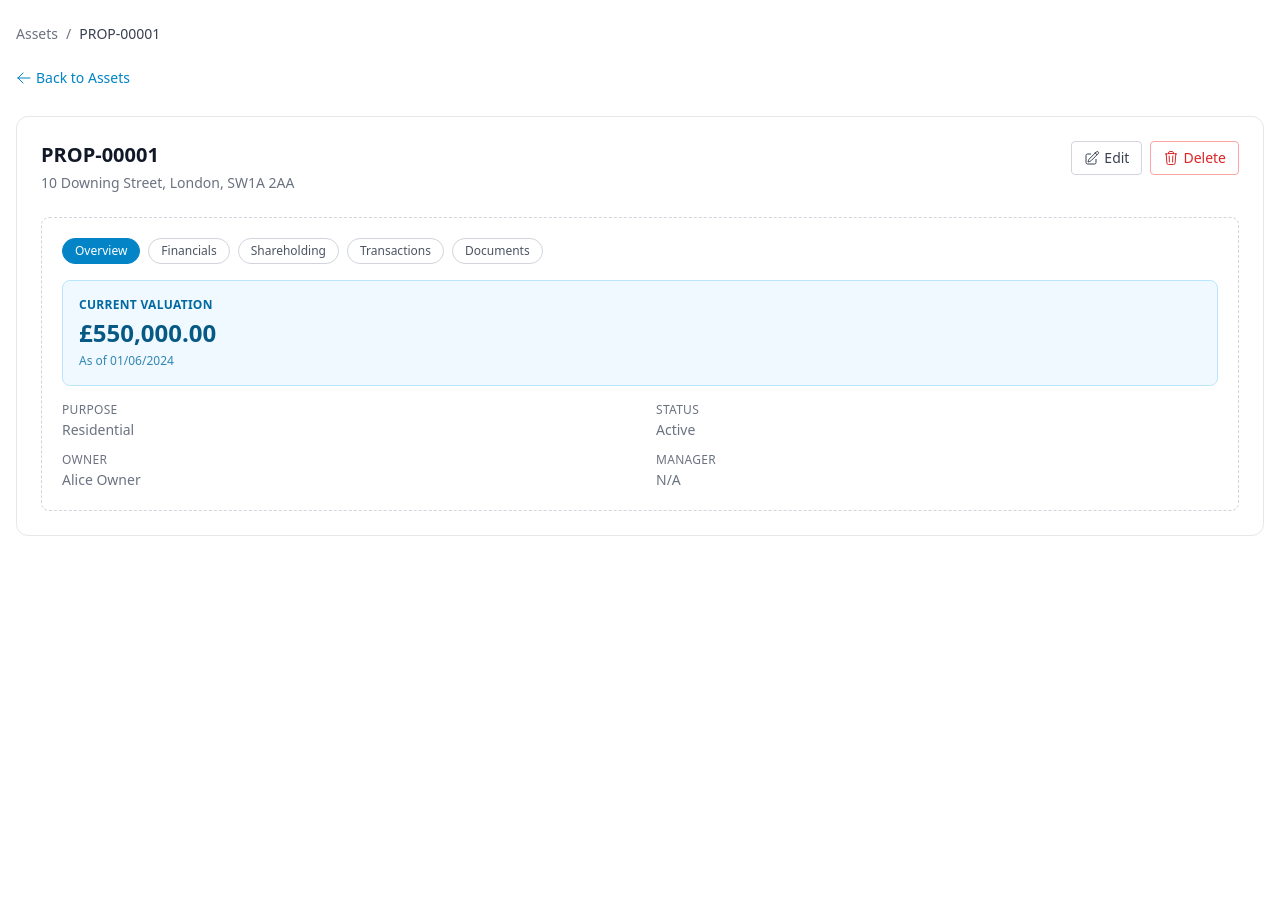
Scenario: AssetDetailPage › shows linked documents in documents tab
Click the button "Documents" at {"x": 497, "y": 251}, box [452,238,543,264]
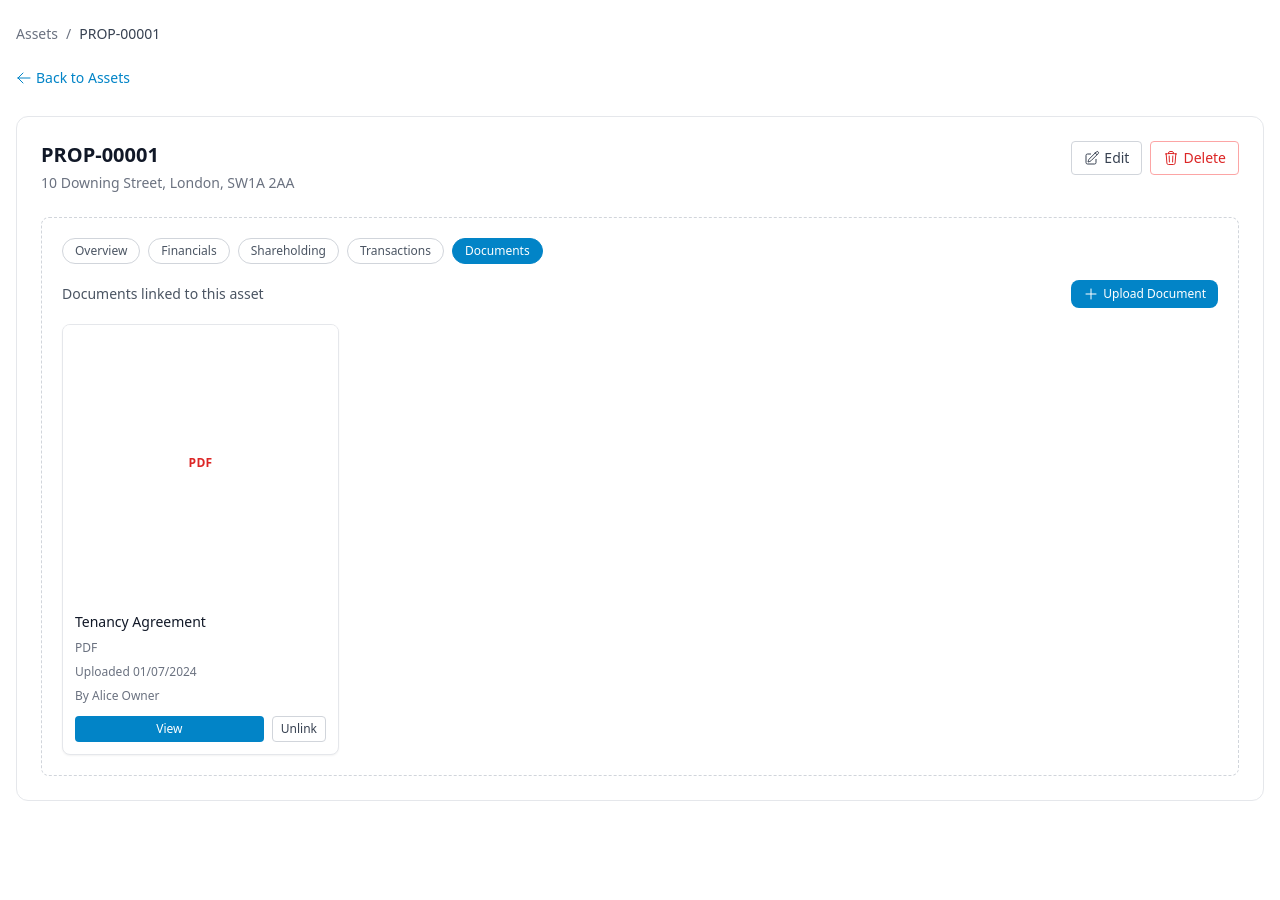
Check: the text "Tenancy Agreement" is shown, box [75,612,206,631]
Check: the button "Upload Document" is shown, box [1071,280,1218,308]
